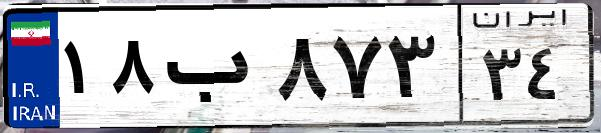1: (57, 26, 110, 100)
3: (385, 28, 445, 110), (475, 38, 525, 113)
4: (525, 38, 570, 115)
7: (330, 28, 385, 110)
8: (270, 28, 330, 110), (110, 28, 158, 98)
ب: (158, 20, 270, 120)
